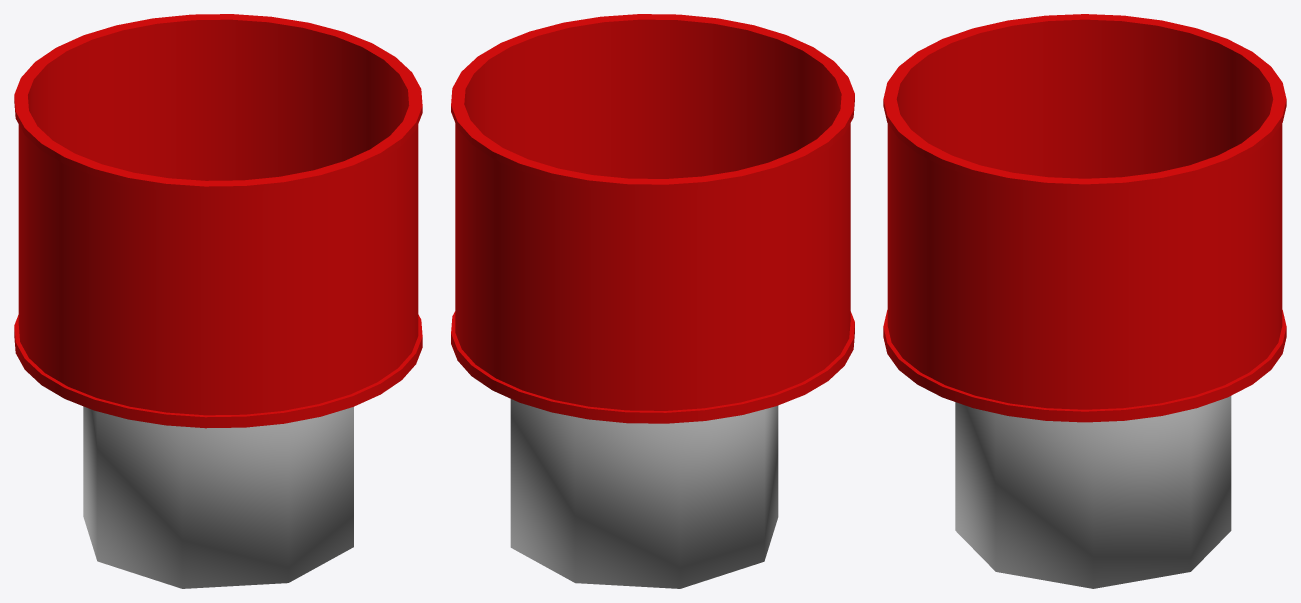
File: bar lamp.glb
3 views of the same model, side by side, from view 1: azimuth 30°, elevation 25°; view 2: azimuth 150°, elevation 25°; view 3: azimuth 270°, elevation 25° (orthographic).
Parts seen in each view (by area): view 1: lamp 2.002, lamp 2.001; view 2: lamp 2.002, lamp 2.001; view 3: lamp 2.002, lamp 2.001.
Boxes of the visible parts, x1=… form: lamp 2.002: x1=14, y1=14, x2=422, y2=428; lamp 2.001: x1=83, y1=406, x2=353, y2=588; lamp 2.002: x1=451, y1=14, x2=854, y2=423; lamp 2.001: x1=510, y1=399, x2=778, y2=588; lamp 2.002: x1=883, y1=14, x2=1286, y2=422; lamp 2.001: x1=955, y1=396, x2=1231, y2=588.
Size of the model in its own units: 0.3804 by 0.4469 by 0.3804.
